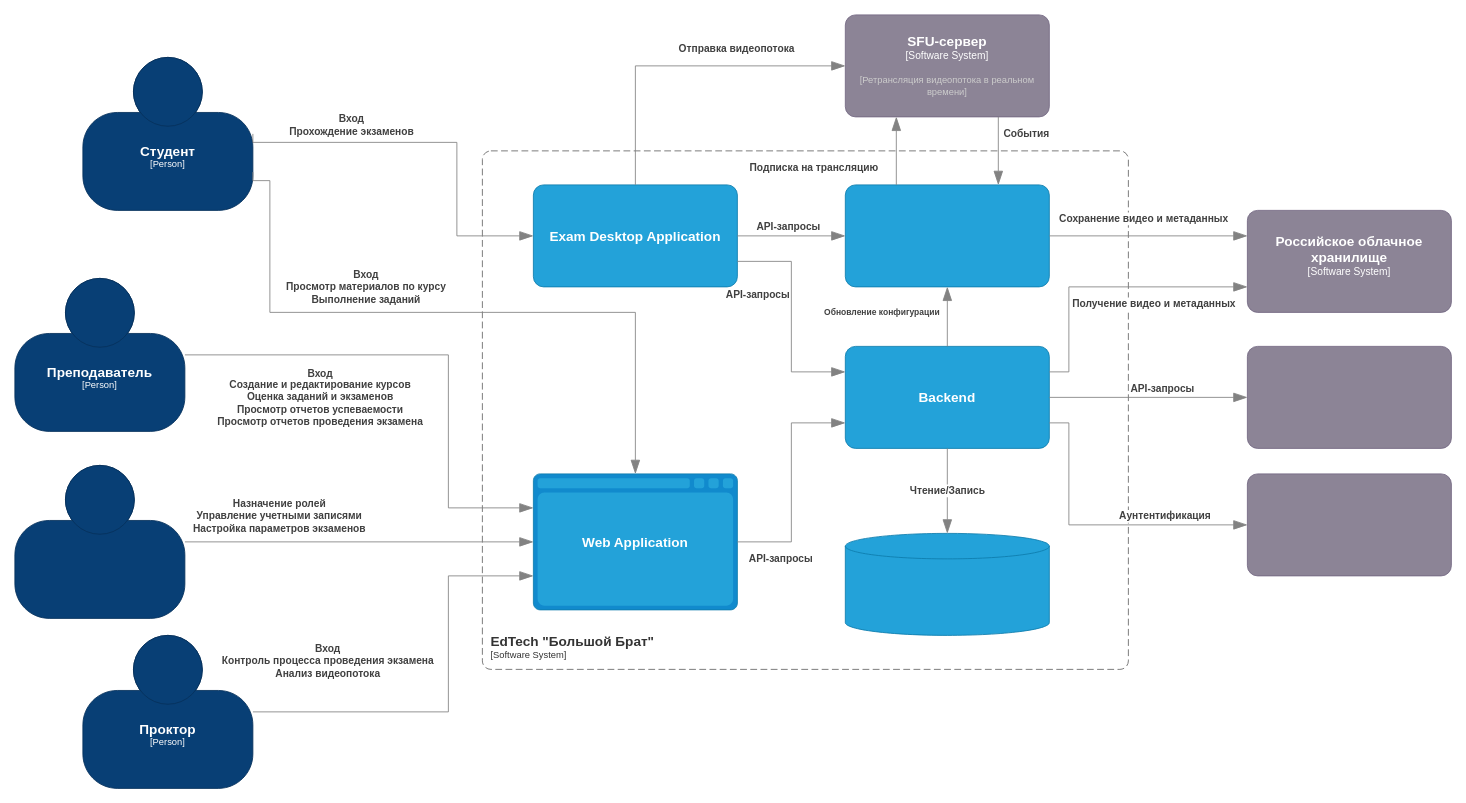
Some shapes in this 1466 by 803 pixel diagram are drawn without their labels. The centre of each missing label's shape, as x and y in pixels:
"Database" goes at (x=946, y=584).
"LMS Moodle [Software System]" goes at (x=1349, y=397).
"Proctoring Service" goes at (x=946, y=235).
"SSO [Software System]" goes at (x=1349, y=524).
"Администратор учебного подразделения [Person]" goes at (x=99, y=541).
